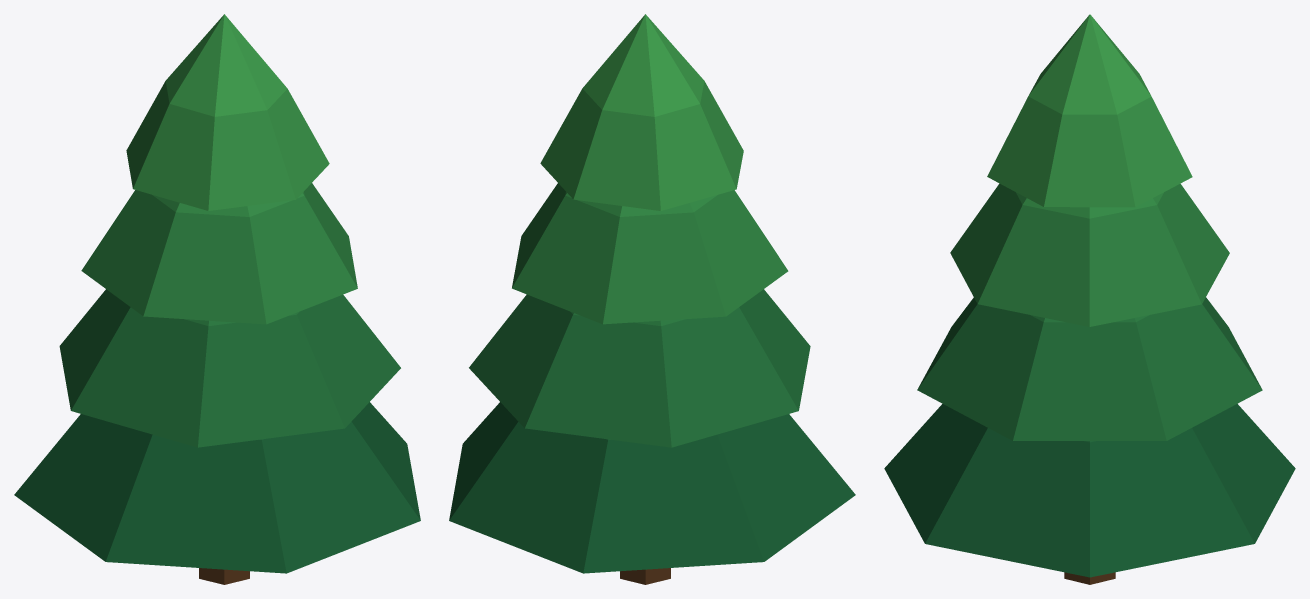
The model's file is pine_cartoon.glb.
3 views of the same model, side by side, from view 1: azimuth 30°, elevation 25°; view 2: azimuth 150°, elevation 25°; view 3: azimuth 270°, elevation 25° (orthographic).
Visible parts, largest first — view 1: pine_cartoon; view 2: pine_cartoon; view 3: pine_cartoon.
Part boxes in pixels (x1,y1,x2,y2): pine_cartoon: (14,14,420,584); pine_cartoon: (449,14,855,584); pine_cartoon: (884,14,1295,584).
Size of the model in its own units: 0.9505 by 1.46 by 0.9749.
